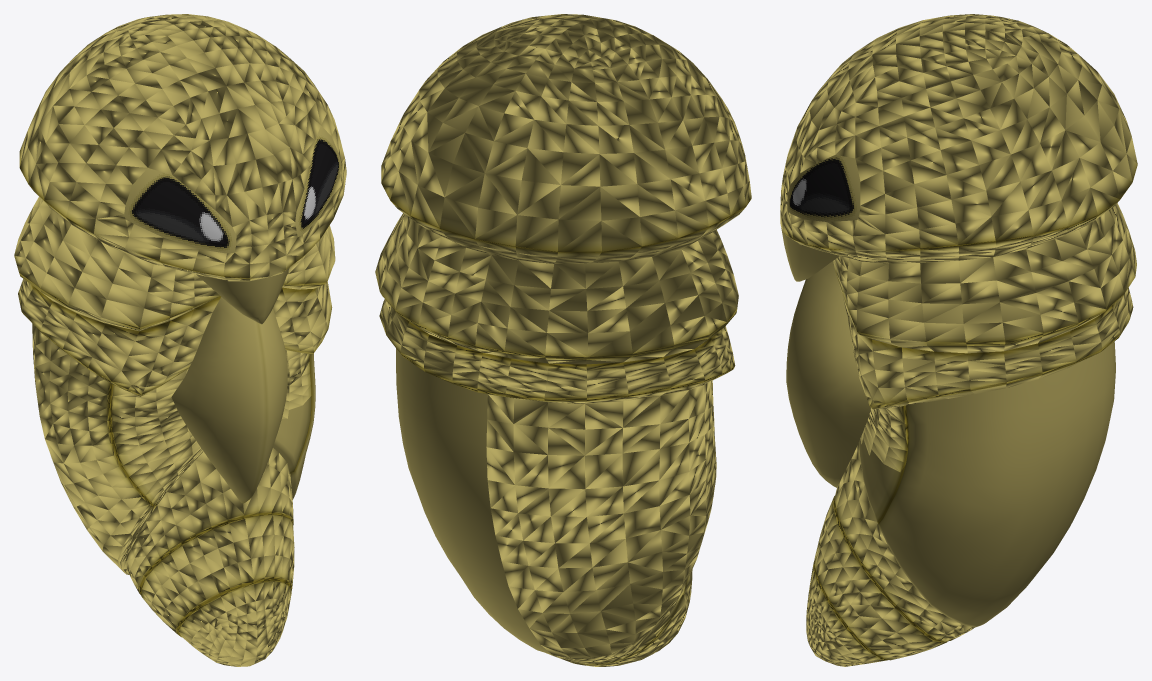
The model's file is 014 Kakuna-1.gltf.
3 renders of one model, left to right at view 1: azimuth 30°, elevation 25°; view 2: azimuth 150°, elevation 25°; view 3: azimuth 270°, elevation 25°, orthographic. The views are drawn at different scales.
Parts seen in each view (by area): view 1: Kakuna; view 2: Kakuna; view 3: Kakuna.
Part boxes in pixels (<box>): Kakuna: <box>14,14,346,666</box>; Kakuna: <box>375,14,751,666</box>; Kakuna: <box>780,14,1137,666</box>.
Bounding box in the file's own units: 76.57 × 148 × 76.29.
2 materials, 2 textured.
